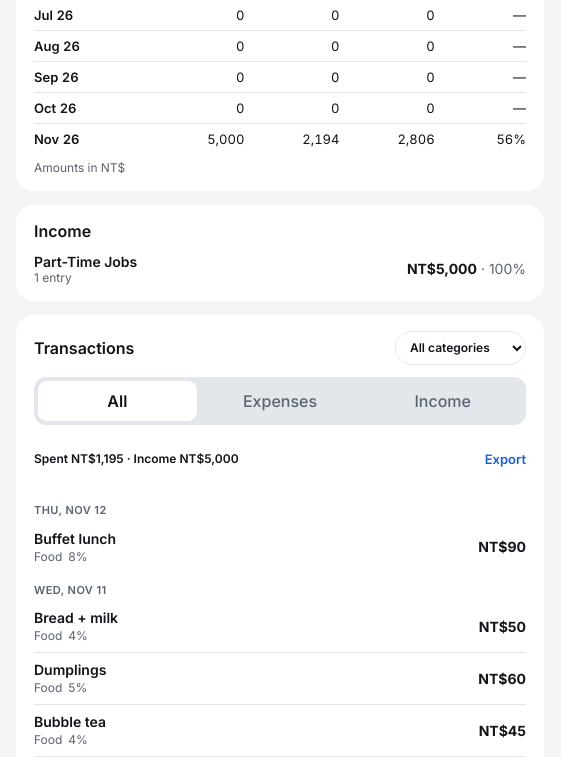
the Income switch lists only income, with its total and each row's share
The width and height of the screenshot is (561, 757).
(page scrolled)
Click the tab "Income": coordinates (443, 401) [363,381,522,421]
(page scrolled)
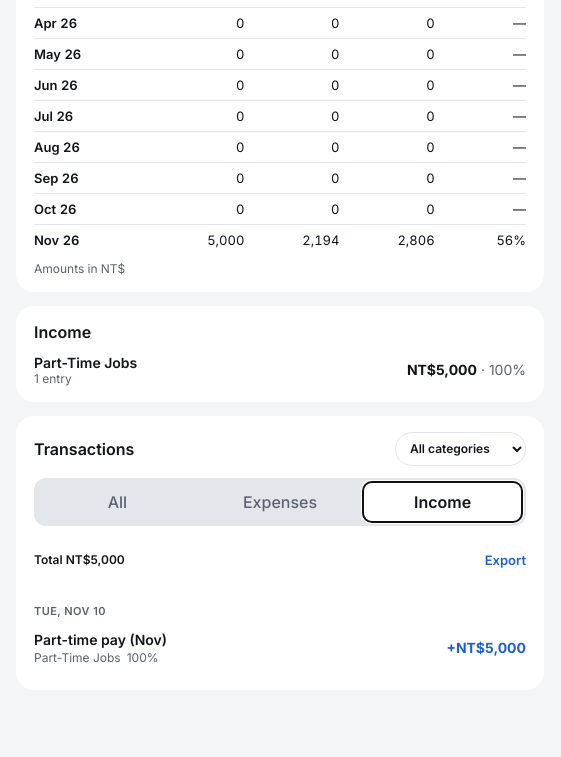
Expected: the text "Part-time pay (Nov)" is shown, [34,631,167,648]
Now the text "Total NT$5,000" is shown, box [34,552,125,567]
